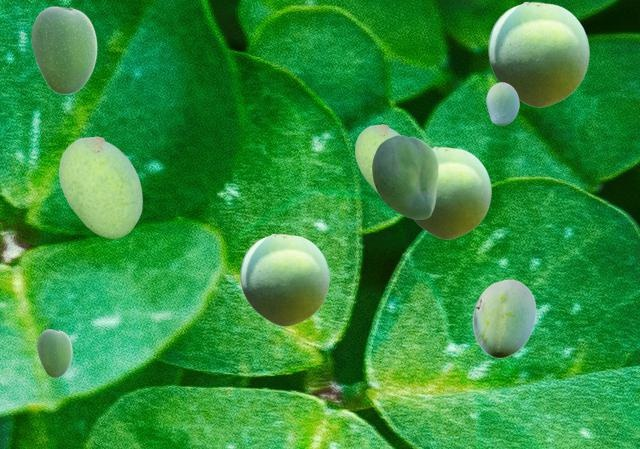green_mango: (488, 1, 588, 106), (59, 136, 141, 237), (240, 233, 328, 325), (413, 146, 490, 238), (31, 6, 96, 93), (372, 135, 437, 218), (472, 279, 535, 357), (355, 124, 400, 192), (37, 329, 71, 376), (486, 82, 518, 124)
